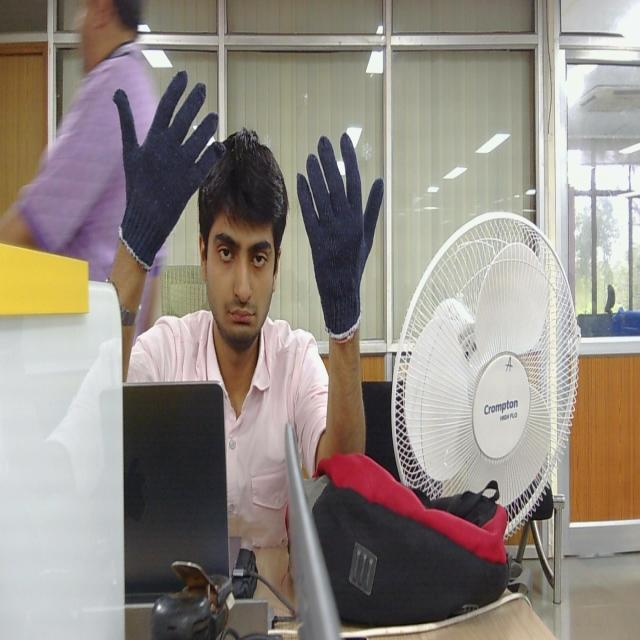Gloves-Detection: (114, 71, 218, 268), (293, 128, 383, 335)
